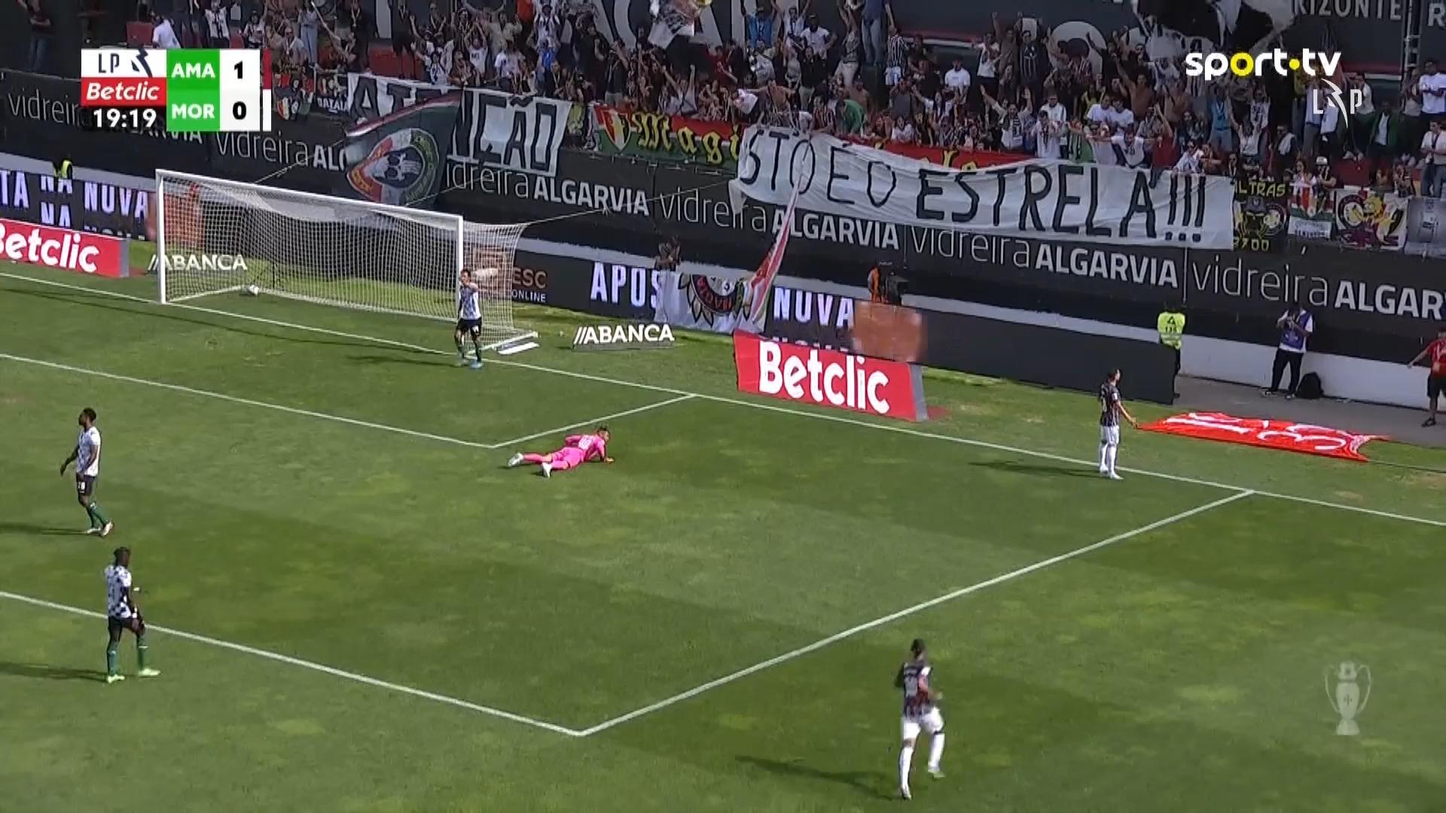ball: (1057, 37, 1089, 58), (247, 284, 259, 296)
goalkeeper: (505, 423, 615, 479)
player: (892, 637, 947, 800), (102, 545, 160, 683), (58, 406, 114, 538), (1096, 367, 1137, 480), (452, 267, 484, 369)
